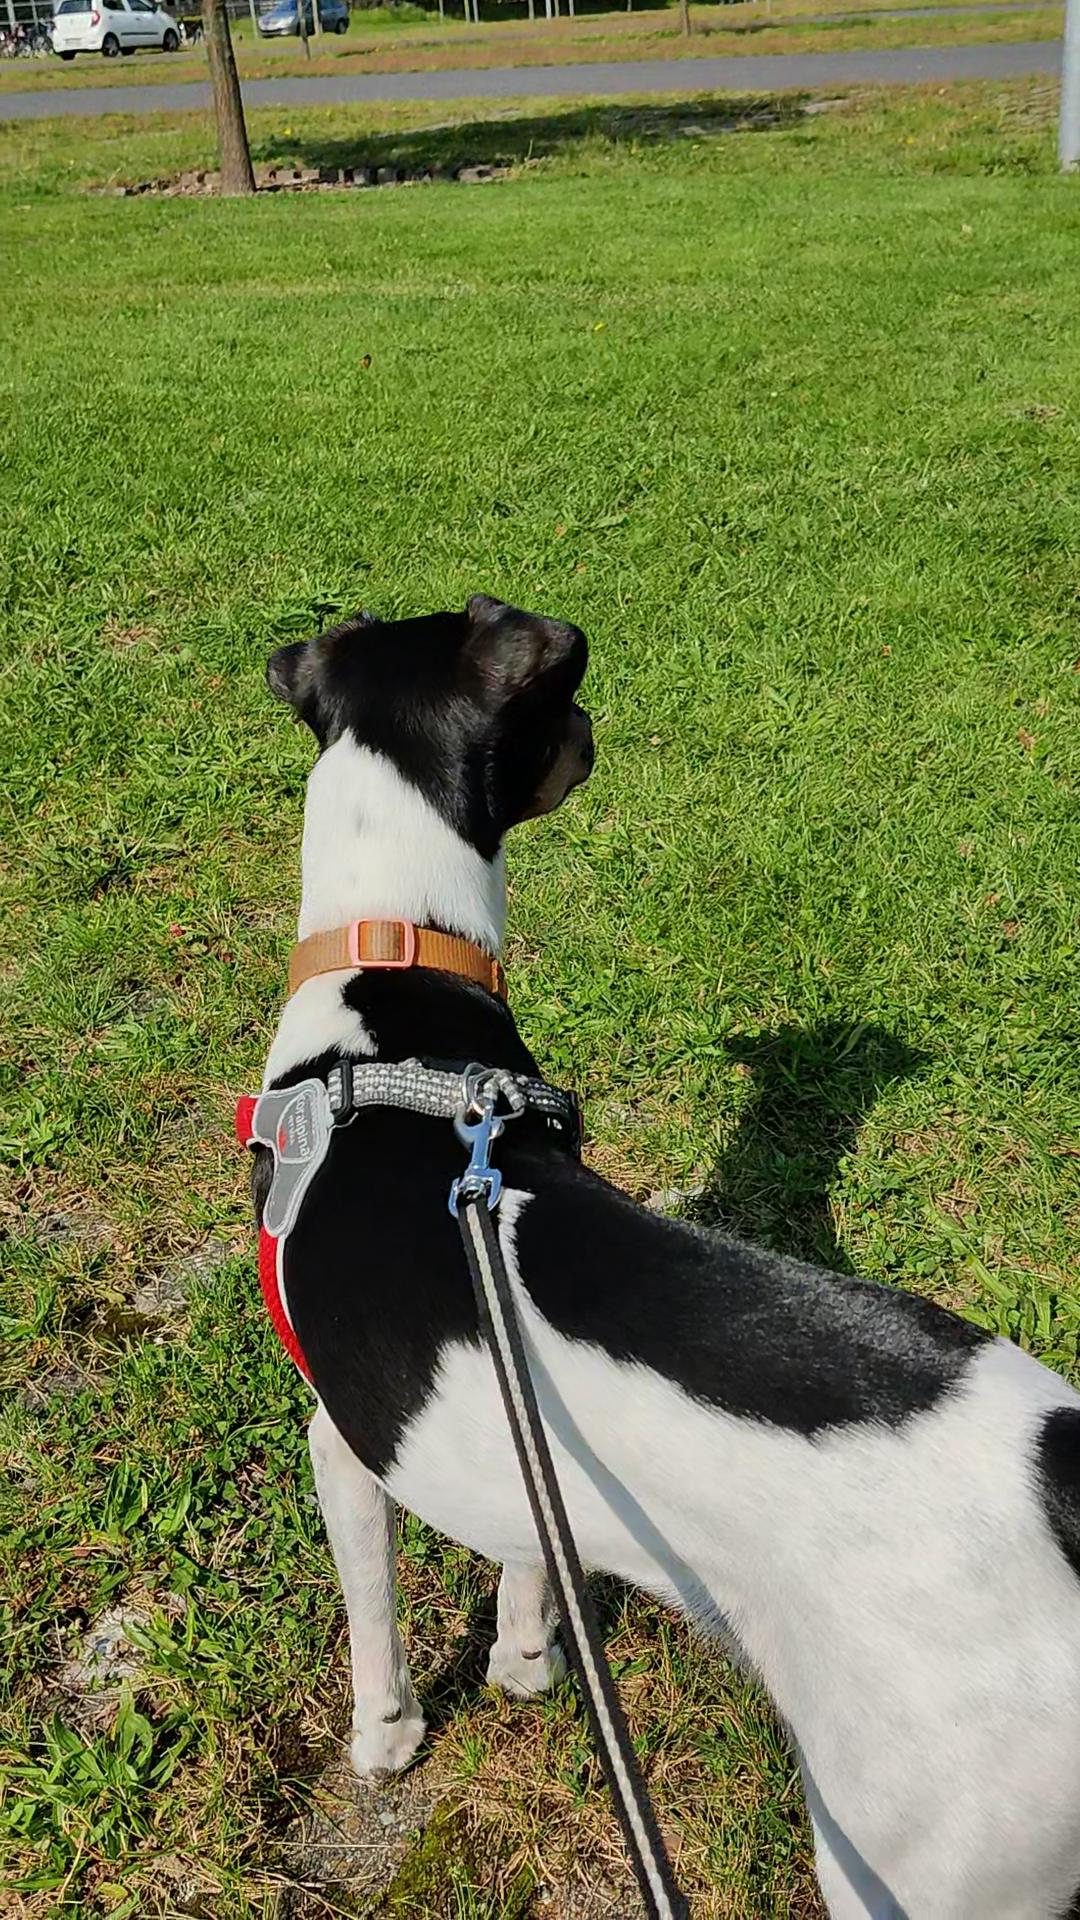Dog: (219, 583, 1079, 1919)
